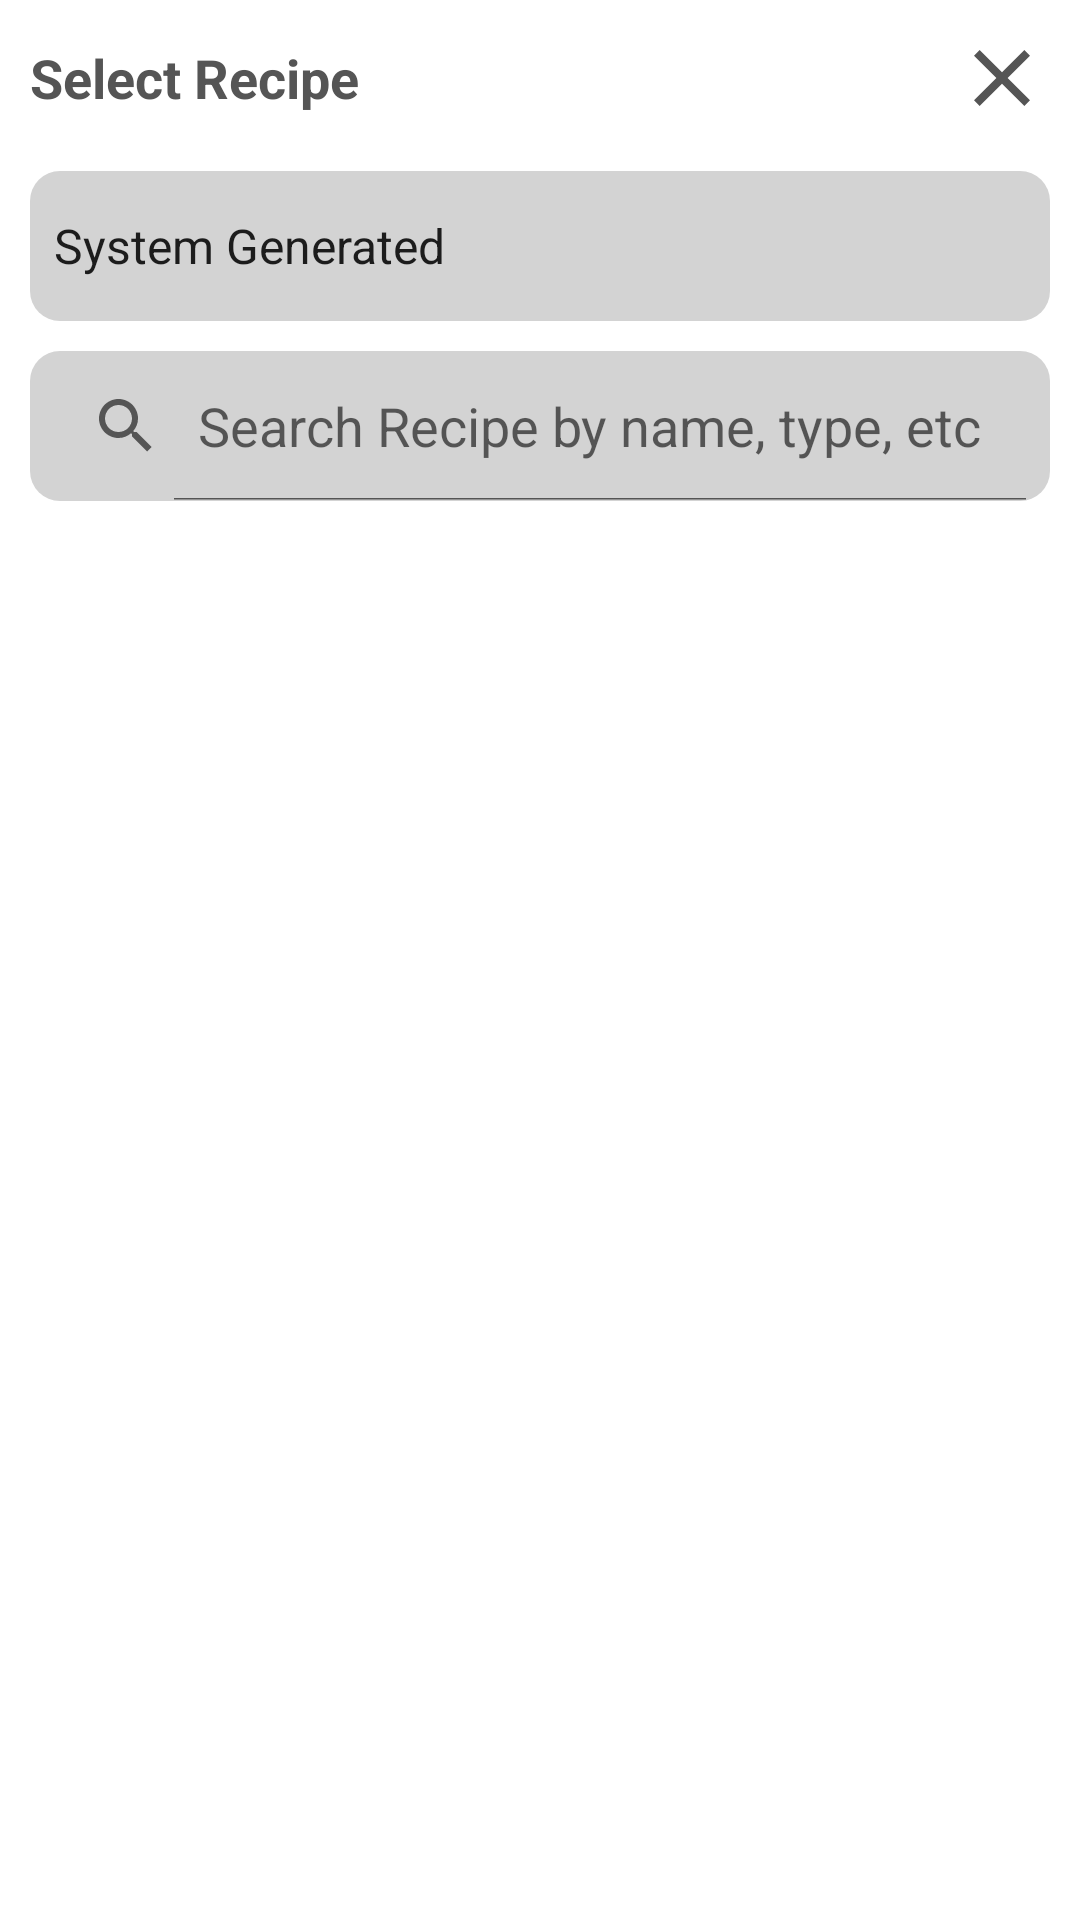

Where icons sit on this 1080px×1920px app screen, as (x1, y1, x2, y2):
close: (974, 50, 1030, 106)
